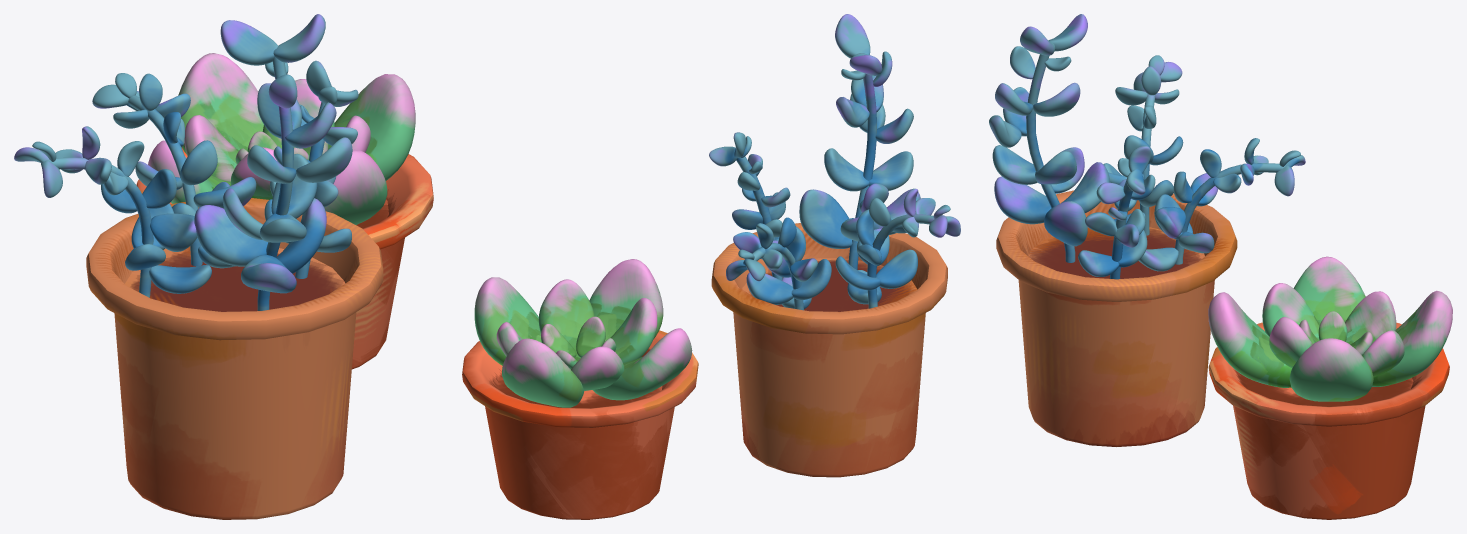
Rendered from plants.gltf.
3 views of the same model, side by side, from view 1: azimuth 30°, elevation 25°; view 2: azimuth 150°, elevation 25°; view 3: azimuth 270°, elevation 25° (orthographic). The views are drawn at different scales.
Visible parts, largest first — view 1: pCylinder10, succulentOne; view 2: pCylinder10, succulentOne; view 3: pCylinder10, succulentOne.
Part boxes in pixels (x1=…): pCylinder10: x1=14, y1=14, x2=383, y2=519; succulentOne: x1=136, y1=53, x2=433, y2=369; pCylinder10: x1=709, y1=14, x2=960, y2=477; succulentOne: x1=462, y1=259, x2=698, y2=519; pCylinder10: x1=989, y1=14, x2=1305, y2=446; succulentOne: x1=1208, y1=256, x2=1452, y2=519.
Bounding box in the file's own units: 9.23 × 8.86 × 9.3.
Materials: 4 (4 with a texture image).
